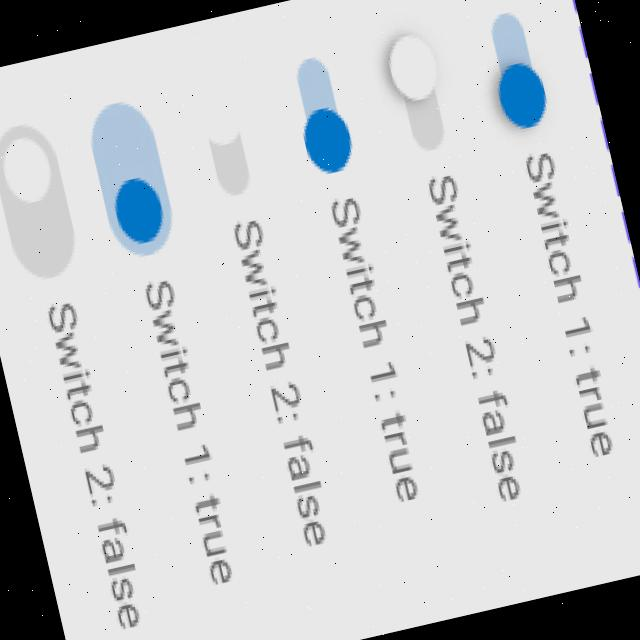VSwitch: (80, 92, 262, 592), (0, 115, 166, 634), (376, 22, 540, 510), (187, 77, 341, 554), (476, 0, 631, 465), (286, 48, 434, 506)
